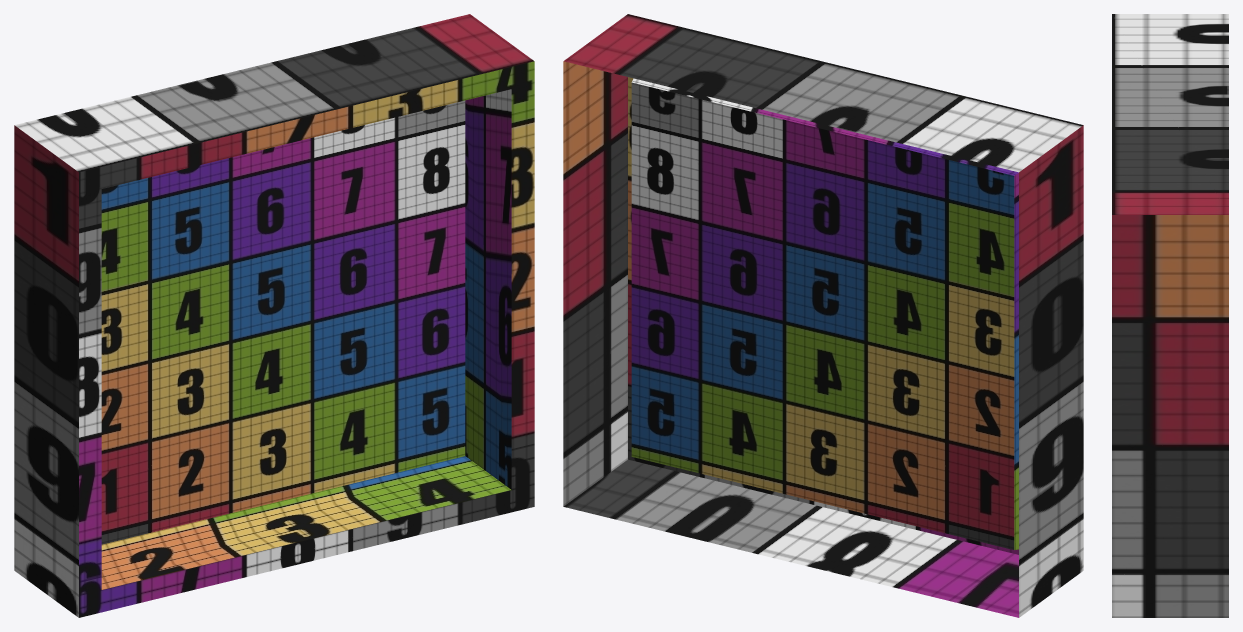
The picture shows the model from 3 angles, left to right: view 1: azimuth 30°, elevation 25°; view 2: azimuth 150°, elevation 25°; view 3: azimuth 270°, elevation 25°; orthographic projection. The views are drawn at different scales.
Parts seen in each view (by area): view 1: TV9; view 2: TV9; view 3: TV9.
Boxes of the visible parts, <box> form: TV9: <box>14,14,534,617</box>; TV9: <box>563,14,1083,617</box>; TV9: <box>1112,14,1228,617</box>.
Size of the model in its own units: 30.48 by 28.48 by 7.48.
1 material, 1 textured.
